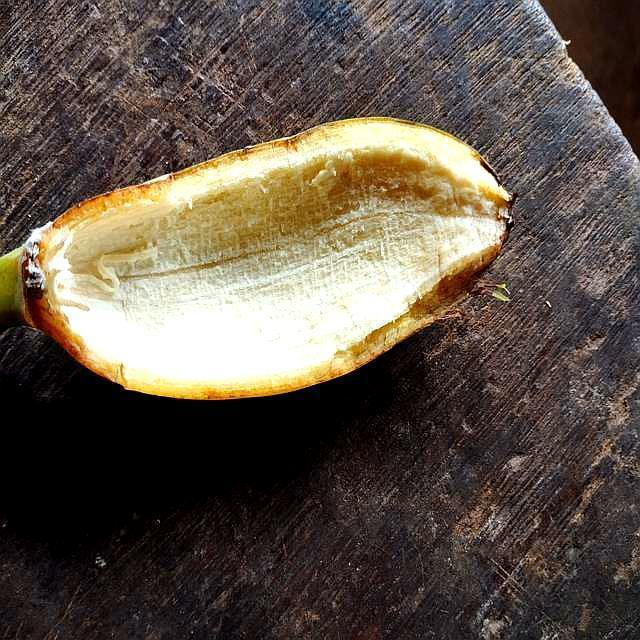Biodegradable: (1, 115, 519, 401)
